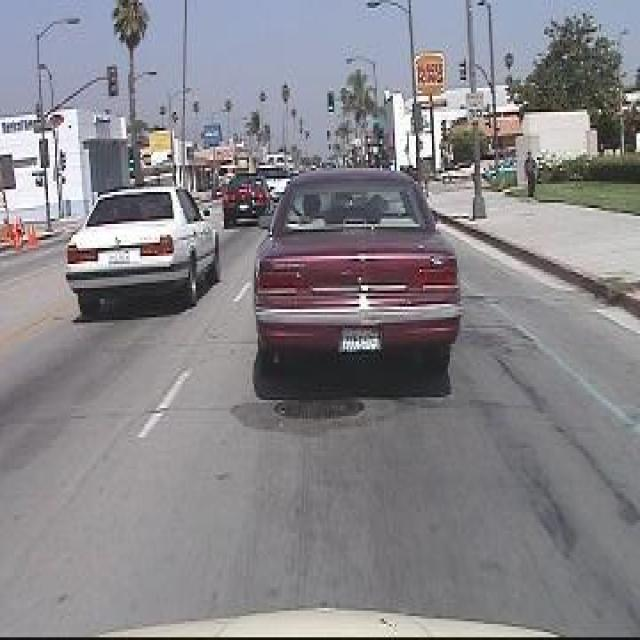car_back: (242, 154, 470, 405), (56, 178, 236, 322)
